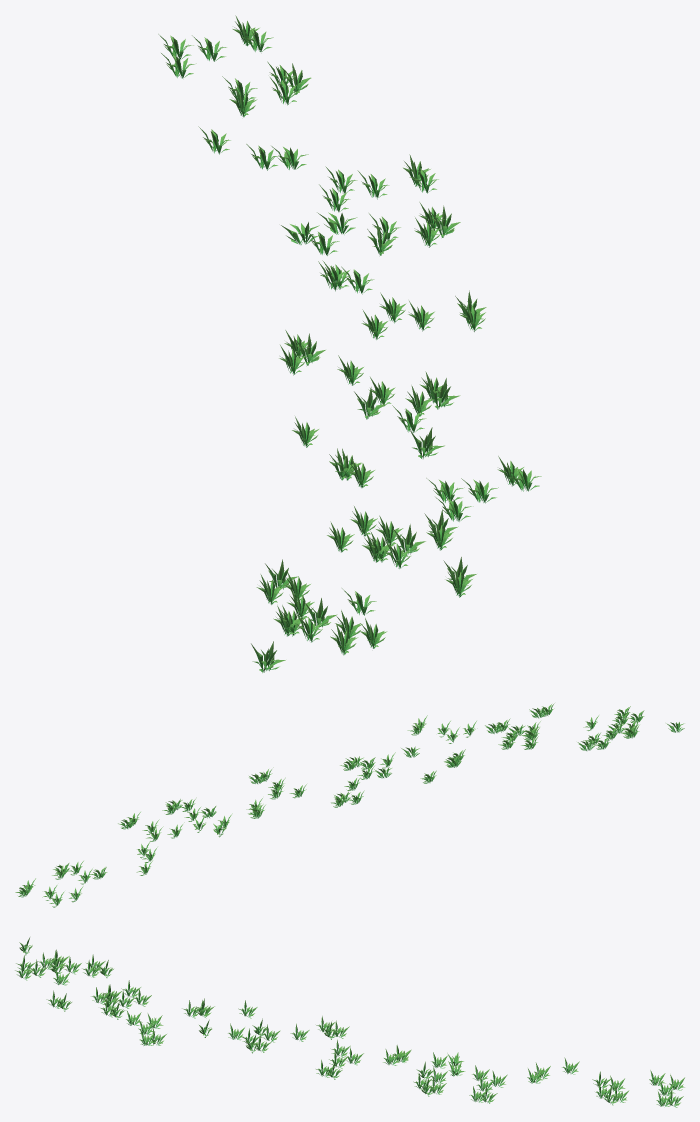
The model's file is Area_07_2.fbx.
3 renders of one model, top to bottom at view 1: azimuth 30°, elevation 25°; view 2: azimuth 150°, elevation 25°; view 3: azimuth 270°, elevation 25°, orthographic. The views are drawn at different scales.
Visible parts, largest first — view 1: Area_07_2; view 2: Area_07_2; view 3: Area_07_2.
Boxes of the visible parts, bbox=[...] form: Area_07_2: bbox=[158, 15, 541, 672]; Area_07_2: bbox=[15, 703, 684, 907]; Area_07_2: bbox=[15, 937, 684, 1107].
Size of the model in its own units: 2211 by 93.02 by 3923.
1 material, 1 textured.
